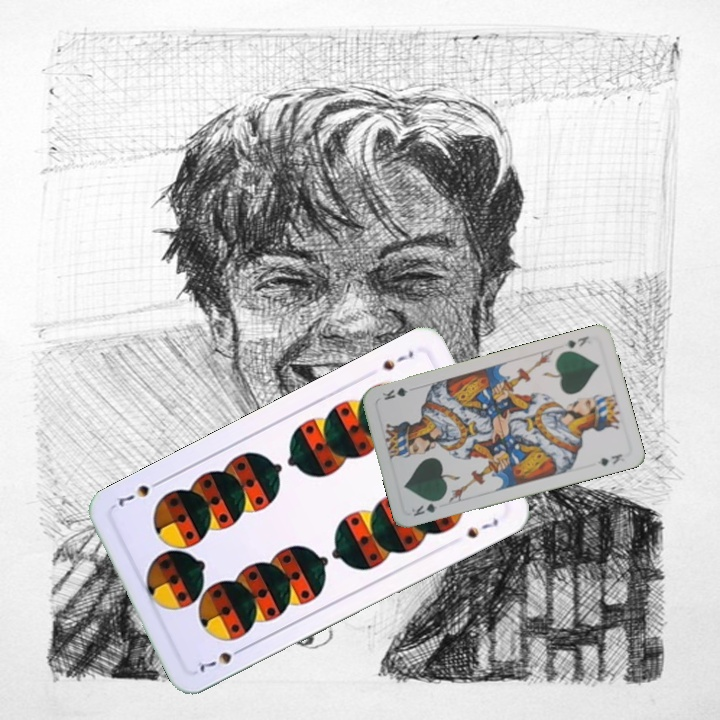GK: (407, 495, 445, 519), (560, 332, 592, 351)
S7: (192, 643, 248, 675), (378, 346, 417, 373)
